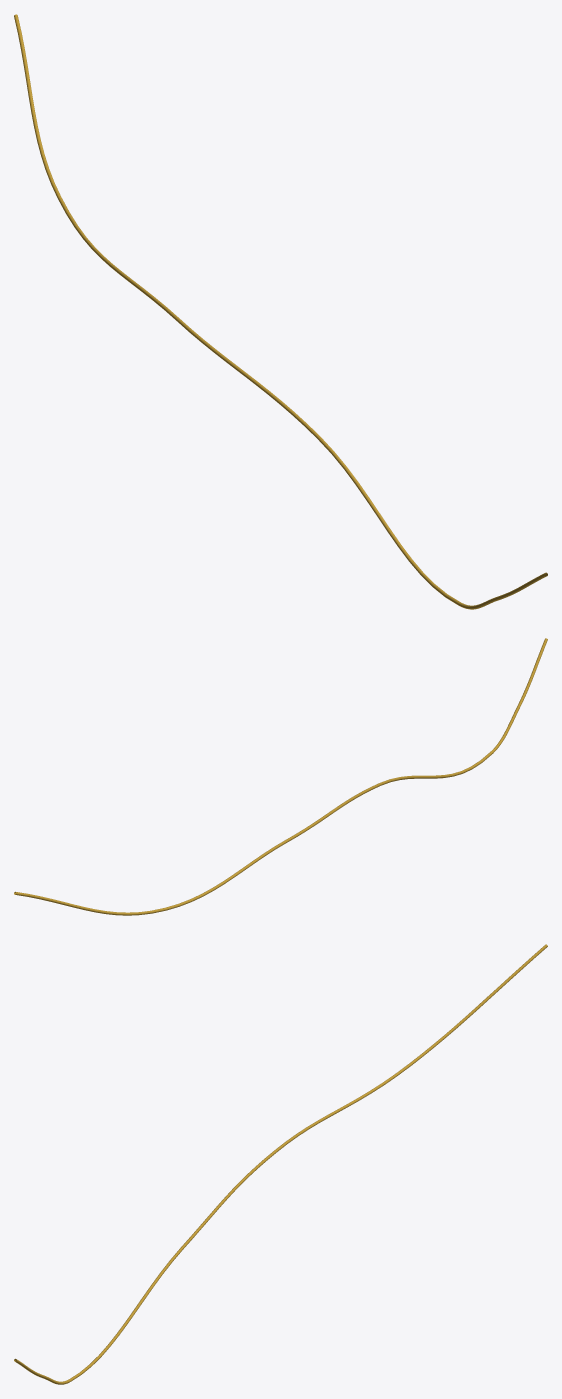
3 renders of one model, top to bottom at view 1: azimuth 30°, elevation 25°; view 2: azimuth 150°, elevation 25°; view 3: azimuth 330°, elevation 25°, orthographic. The views are drawn at different scales.
Parts seen in each view (by area): view 1: 右侧闭孔神经前支; view 2: 右侧闭孔神经前支; view 3: 右侧闭孔神经前支.
Part boxes in pixels (box(x1,y1,x2,y2)): 右侧闭孔神经前支: box(14, 14, 547, 609); 右侧闭孔神经前支: box(14, 638, 547, 915); 右侧闭孔神经前支: box(14, 944, 547, 1384).
Bounding box in the file's own units: 0.0404 × 0.0784 × 0.4487.
